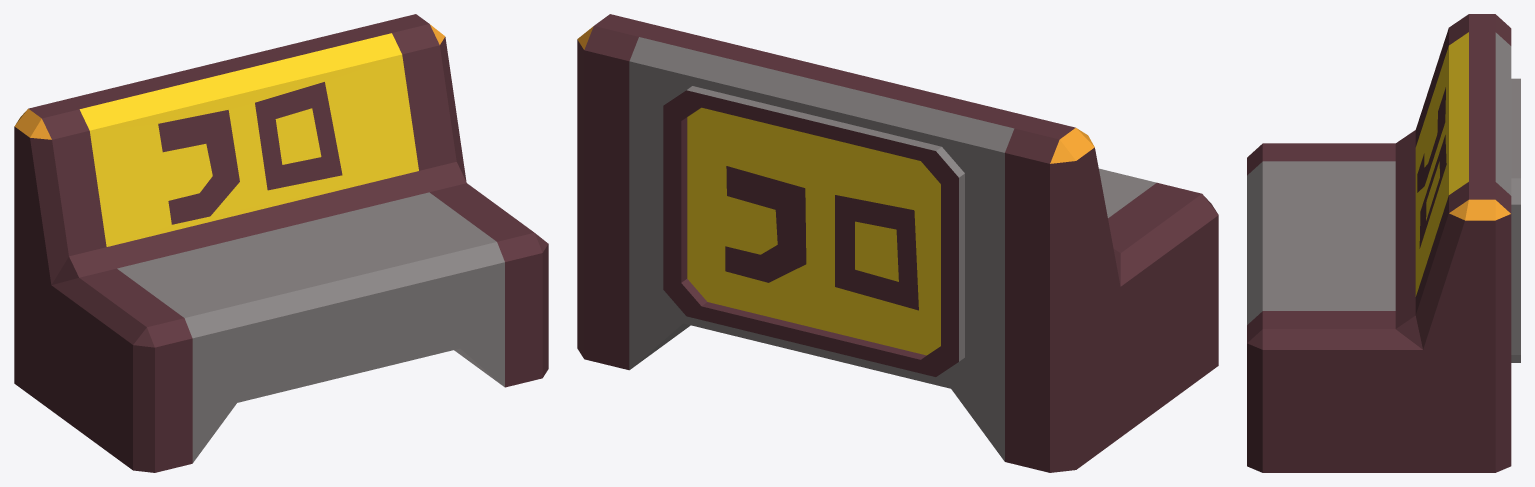
Rendered from scifi-bench-b.fbx.
3 renders of one model, left to right at view 1: azimuth 30°, elevation 25°; view 2: azimuth 150°, elevation 25°; view 3: azimuth 270°, elevation 25°, orthographic. The views are drawn at different scales.
Visible parts, largest first — view 1: scifi-bench-b; view 2: scifi-bench-b; view 3: scifi-bench-b.
Part boxes in pixels (x1,y1,x2,y2): scifi-bench-b: (14,14,548,472); scifi-bench-b: (577,14,1218,472); scifi-bench-b: (1247,14,1520,472).
Size of the model in its own units: 1.65 by 1.03 by 0.9581.
